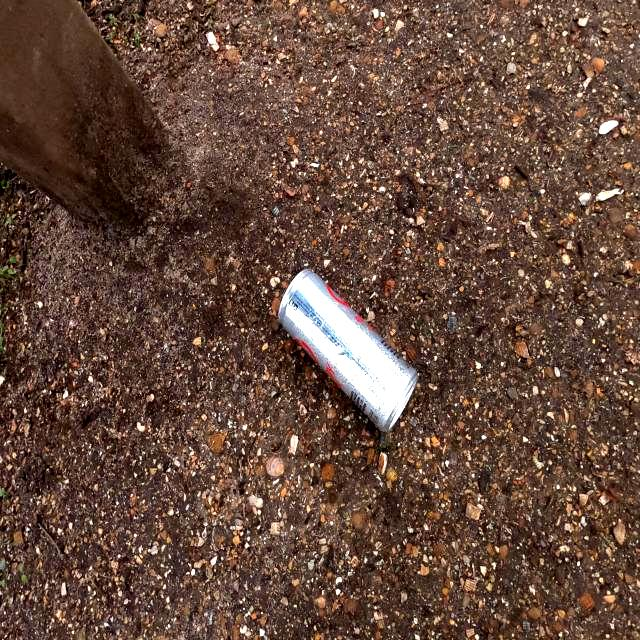Metal: (275, 265, 421, 431)
